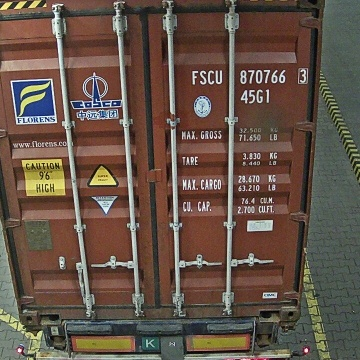serial_id: (192, 69, 307, 84)
